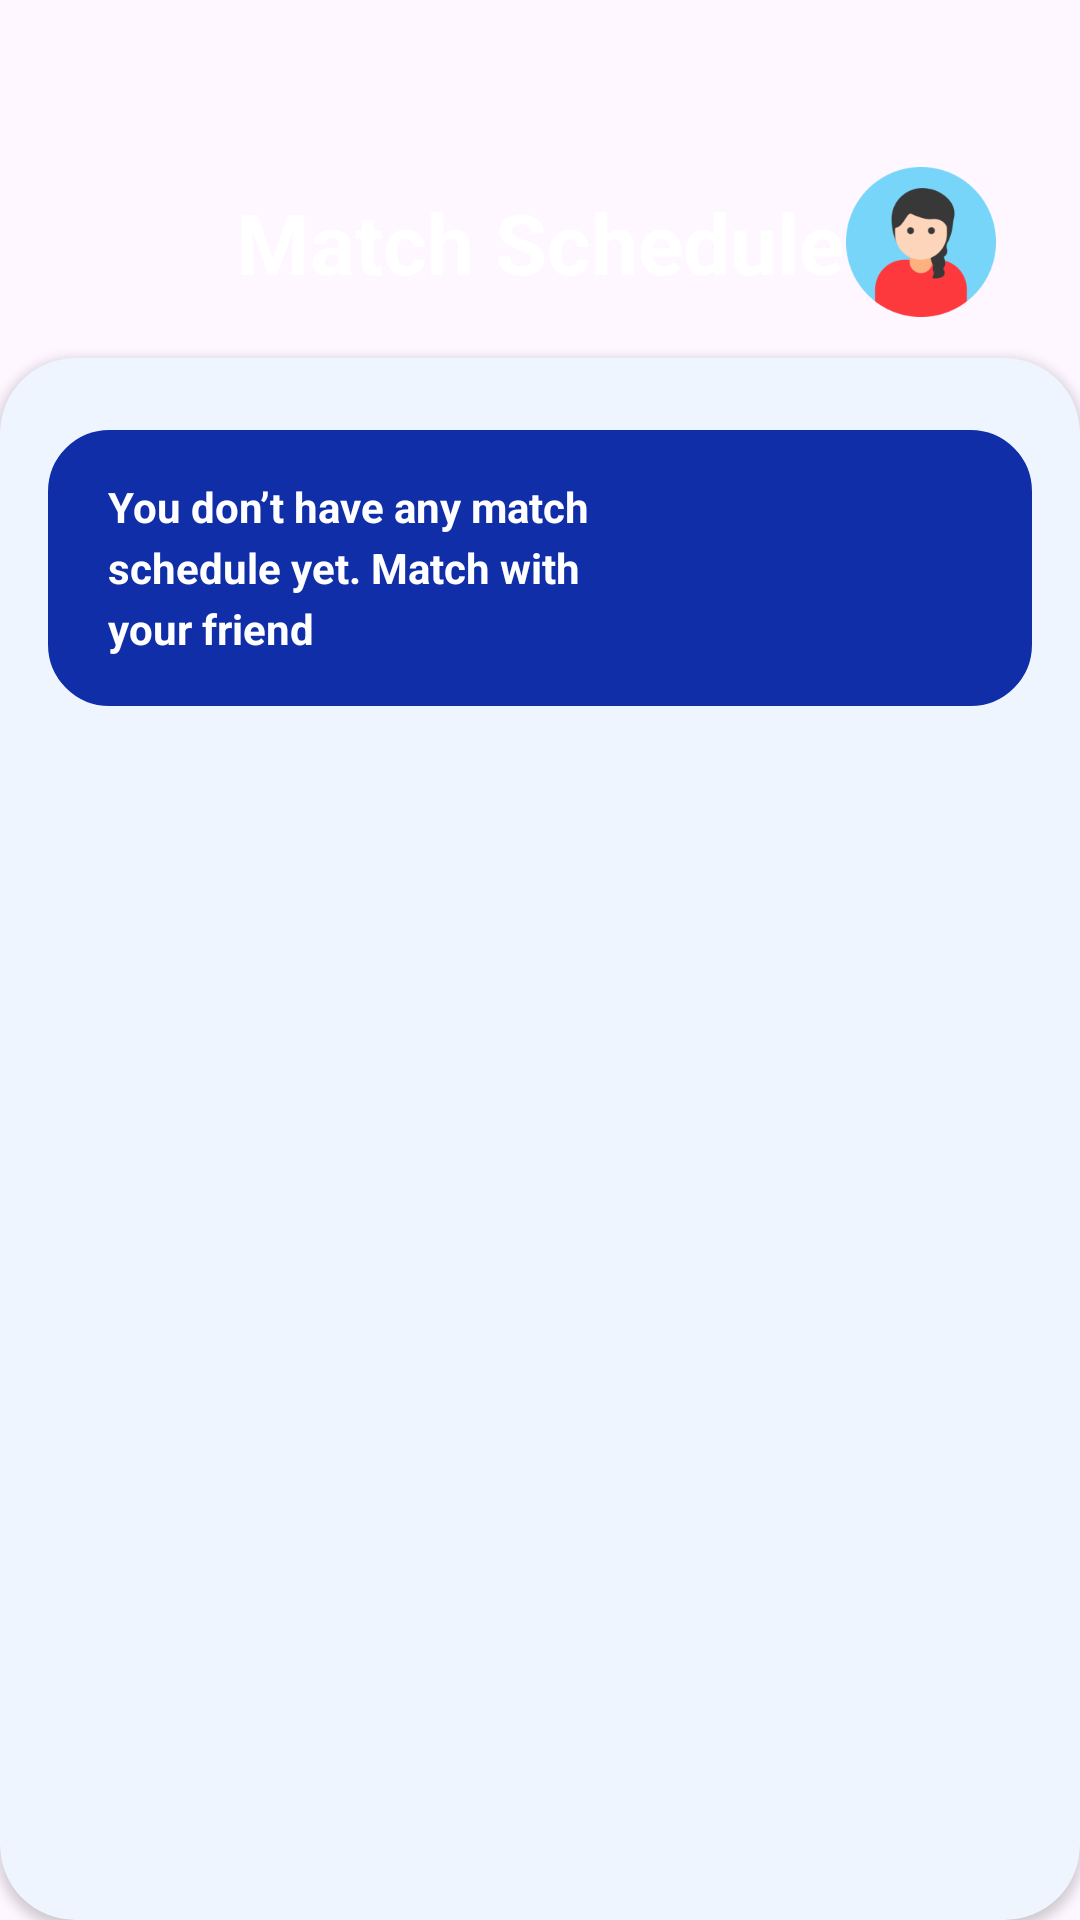

Where icons sit on this 1080w x 1920h app screen, as (x1, y1, x2, y2):
userprofile: (846, 167, 996, 317)
